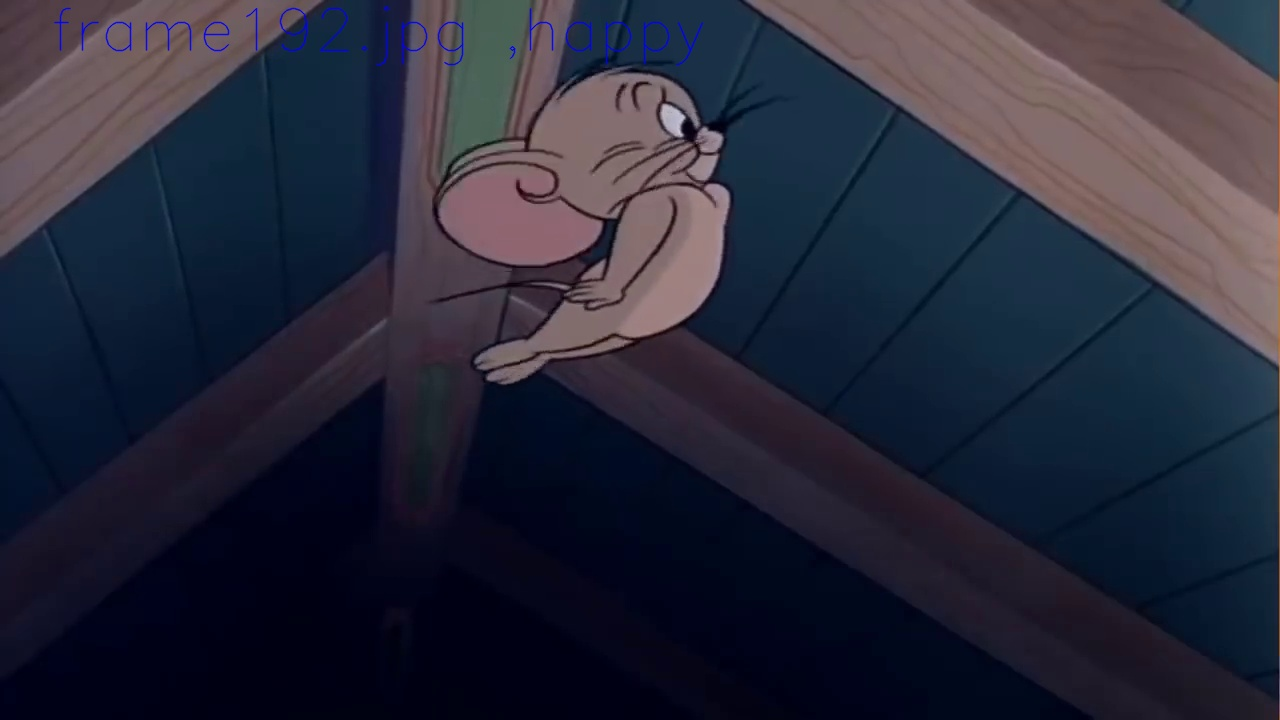happy: (617, 69, 724, 182)
